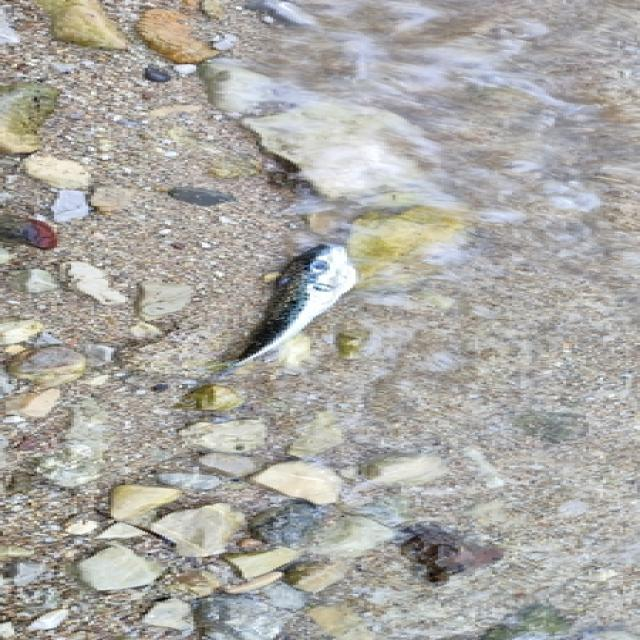Balik: (211, 245, 358, 369)
